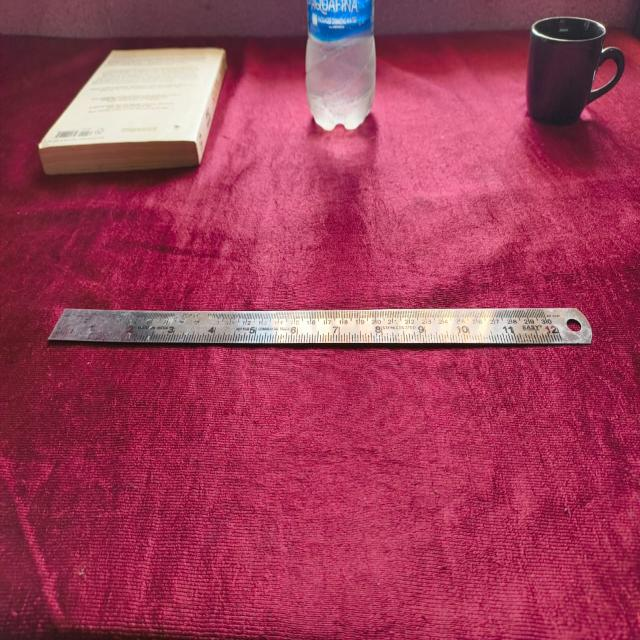Book: (38, 45, 228, 174)
Bottle: (305, 0, 376, 129)
Cup: (526, 17, 626, 128)
scale: (52, 304, 593, 344)
